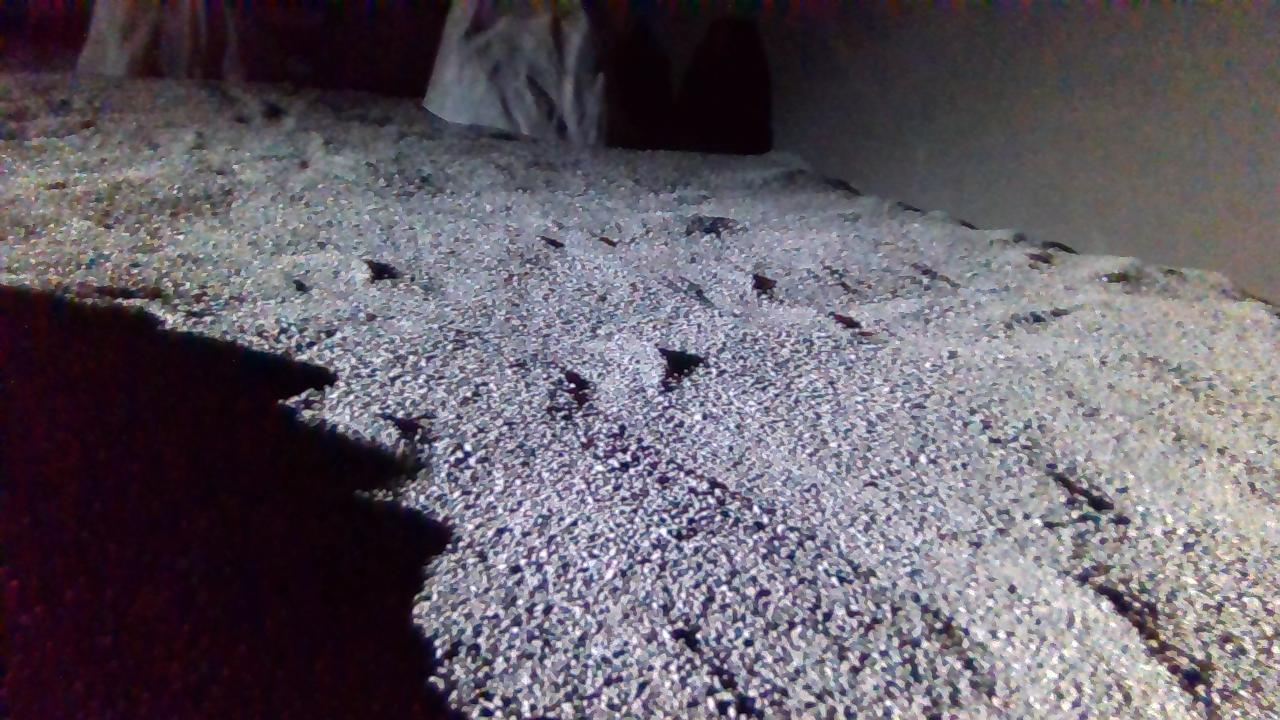rock: (423, 0, 604, 144), (22, 1, 256, 85)
